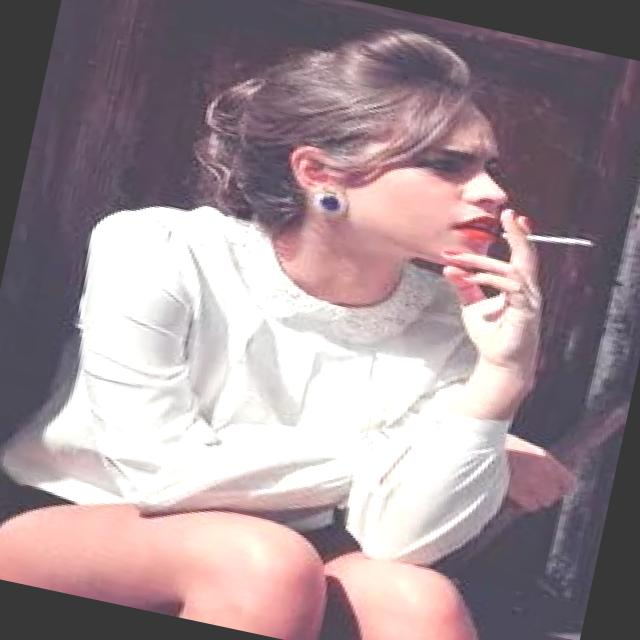cigarette: (490, 214, 598, 259)
